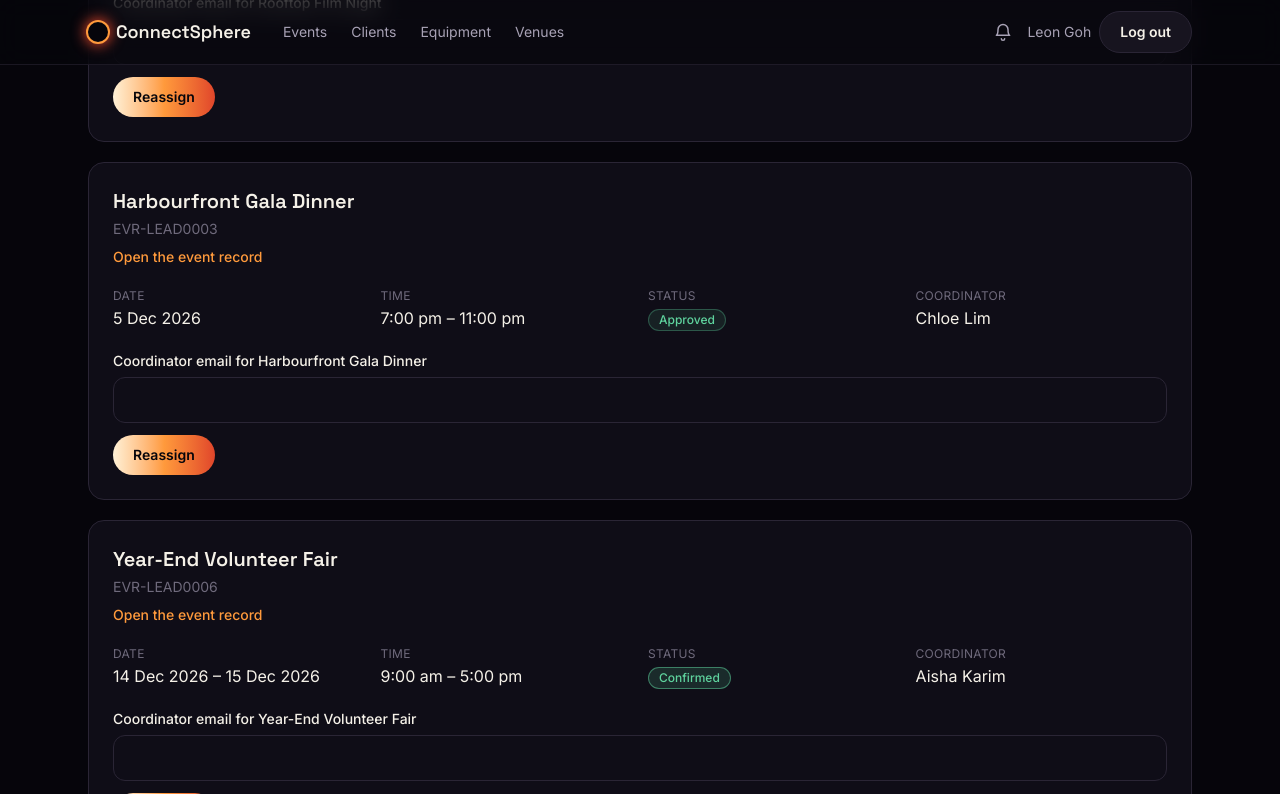
Test case: SCRUM-96 the Lead oversight page: reassigning an event › shows the backend’s message in an alert when it refuses for another reason
(page scrolled)
Type "chloe@connectsphere.test" into the field labelled "Coordinator email for Harbourfront Gala Dinner" at (640, 400), box [113,377,1167,423]
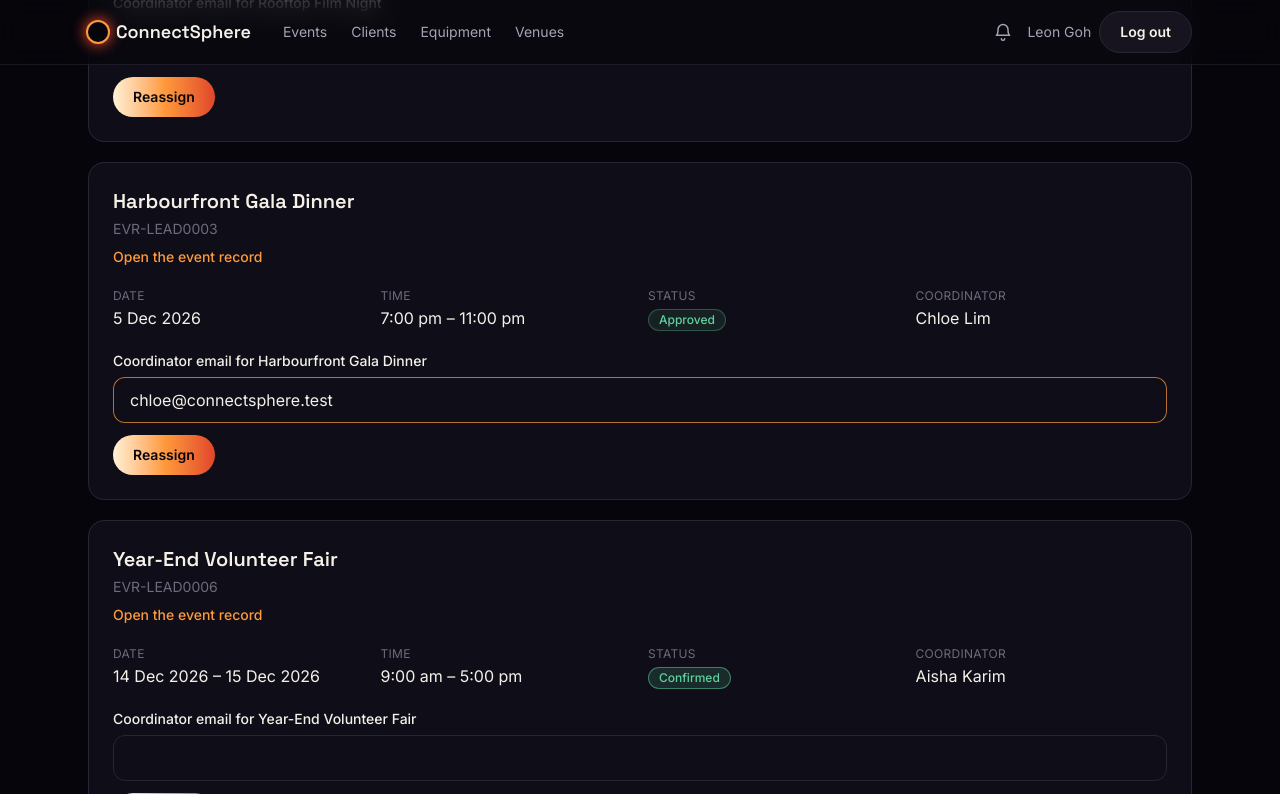
Click the button with aria-label "Reassign Harbourfront Gala Dinner" at (164, 455), box [113,435,215,475]
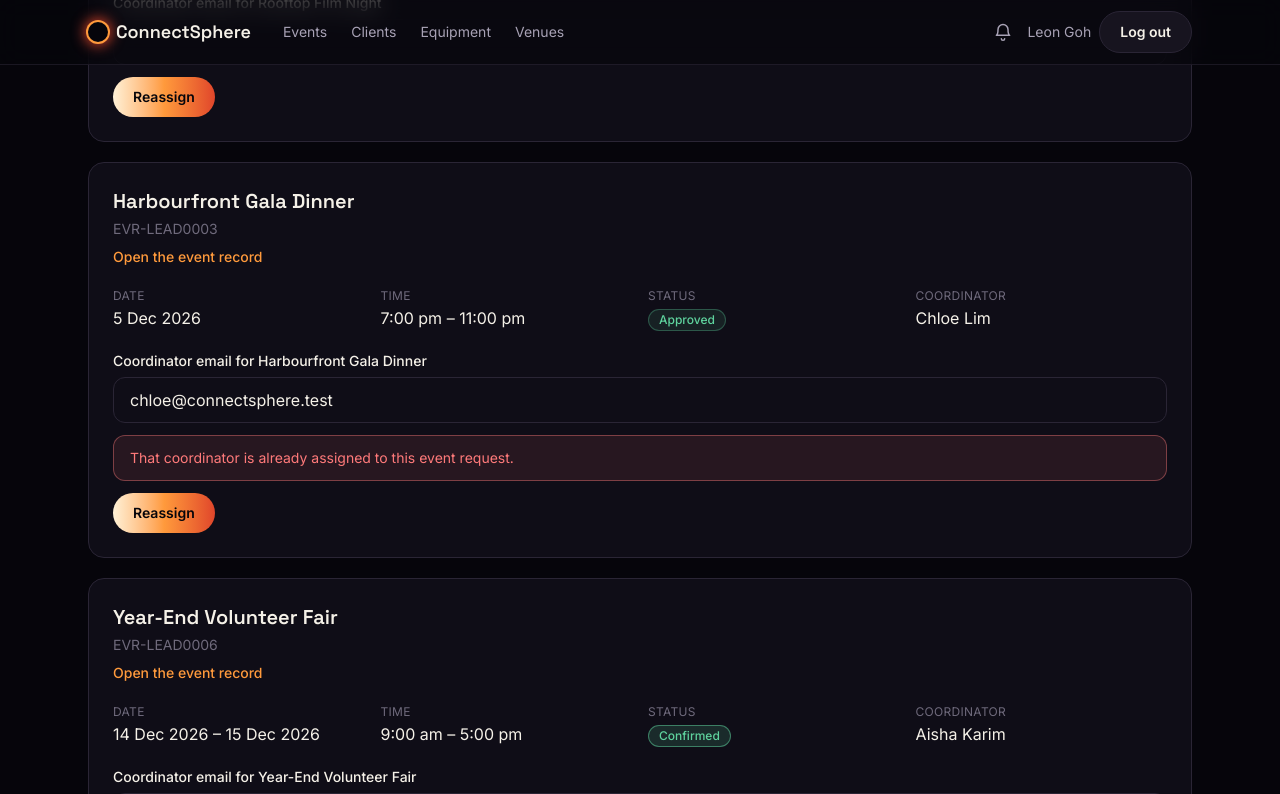
Check: the message reads "That coordinator is already assigned to this event request.", box [130,449,514,466]
